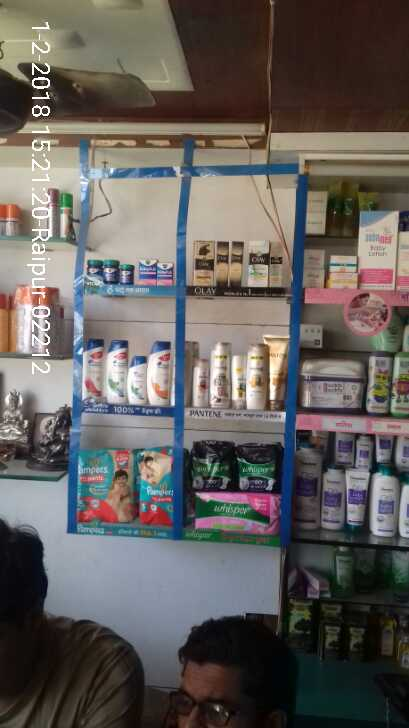beauty: (150, 336, 173, 408), (104, 338, 129, 403), (246, 347, 269, 414), (208, 340, 229, 413), (82, 334, 103, 405), (193, 238, 215, 289), (129, 352, 148, 408), (247, 240, 269, 288), (227, 355, 245, 412), (266, 240, 286, 291), (190, 357, 209, 406)
pharmacy: (132, 440, 185, 529), (72, 442, 133, 519), (193, 487, 284, 537), (188, 433, 238, 496), (78, 254, 174, 286), (232, 445, 284, 498)
